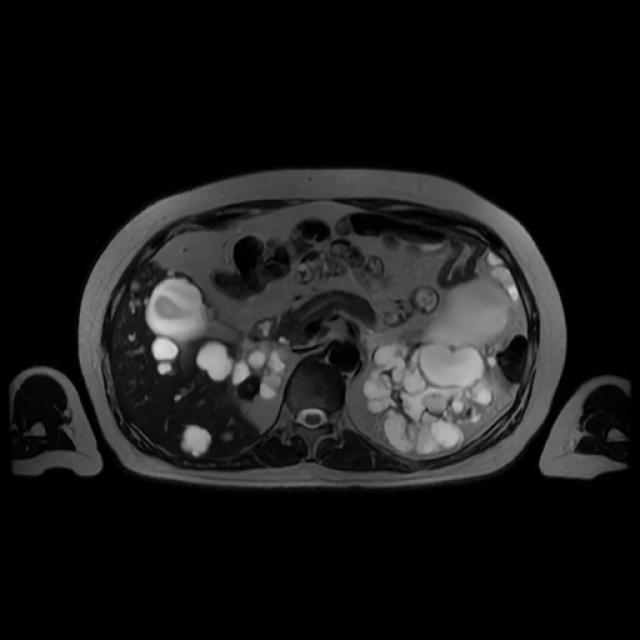sag: (228, 336, 289, 400)
sol: (369, 270, 519, 454)
